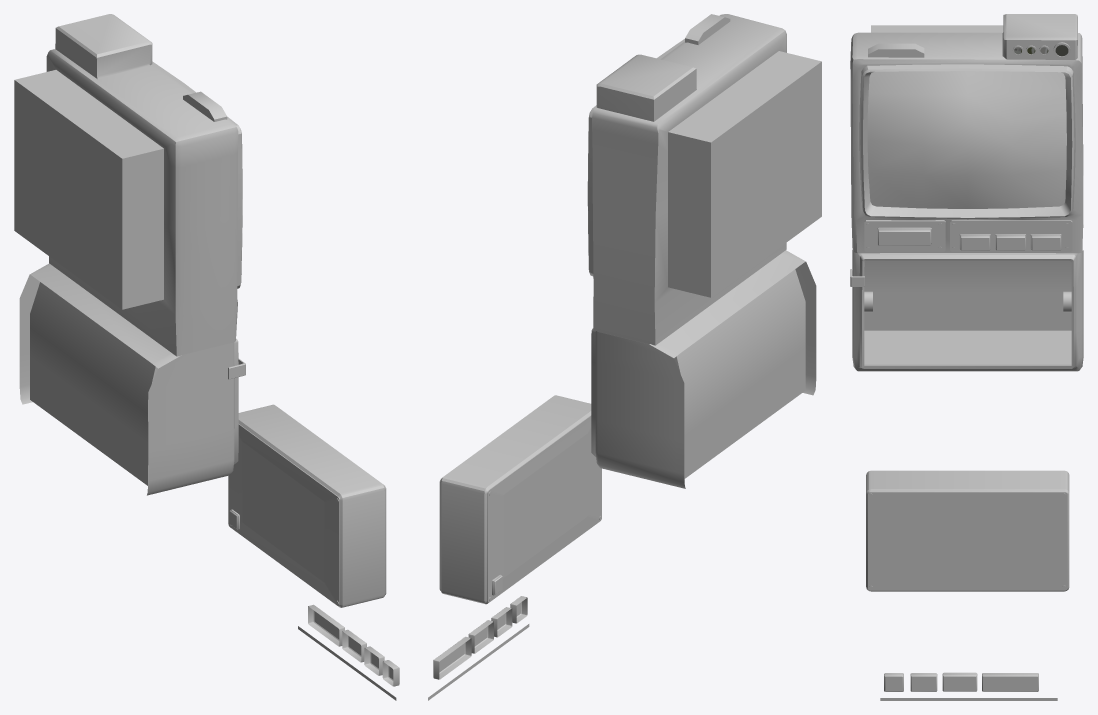
The model's file is CenterConsole_02.fbx.
3 views of the same model, side by side, from view 1: azimuth 30°, elevation 25°; view 2: azimuth 150°, elevation 25°; view 3: azimuth 270°, elevation 25° (orthographic). The views are drawn at different scales.
Visible parts, largest first — view 1: centerMonitor_top_v3, centerMonitor_bot_v2, rotateModule_v2; view 2: centerMonitor_top_v3, centerMonitor_bot_v2, rotateModule_v2, ID_button_04; view 3: centerMonitor_bot_v2, centerMonitor_screen, rotateModule_v2, centerMonitor_top_v3, ID_button_04, submitBtn, ID_button_03, ID_connectingLine, zoomBtn_v1.01, zoomBtn_v1.02, zoomBtn_v1.03, ID_button_02.
Part boxes in pixels (x1,y1,x2,y2): centerMonitor_top_v3: (14, 14, 242, 356); centerMonitor_bot_v2: (19, 263, 238, 495); rotateModule_v2: (228, 404, 386, 607); centerMonitor_top_v3: (587, 14, 821, 345); centerMonitor_bot_v2: (591, 250, 816, 488); rotateModule_v2: (439, 395, 601, 604); ID_button_04: (439, 638, 471, 678); centerMonitor_bot_v2: (852, 224, 1083, 371); centerMonitor_screen: (867, 71, 1066, 208); rotateModule_v2: (866, 470, 1069, 591); centerMonitor_top_v3: (850, 14, 1083, 253); ID_button_04: (982, 676, 1038, 691); submitBtn: (878, 229, 930, 245); ID_button_03: (943, 676, 976, 691); ID_connectingLine: (880, 698, 1057, 700); zoomBtn_v1.01: (996, 235, 1025, 250); zoomBtn_v1.02: (960, 235, 989, 250); zoomBtn_v1.03: (1031, 235, 1060, 250); ID_button_02: (911, 676, 936, 691).
Bounding box in the file's own units: 4.99 × 10.89 × 3.93.
